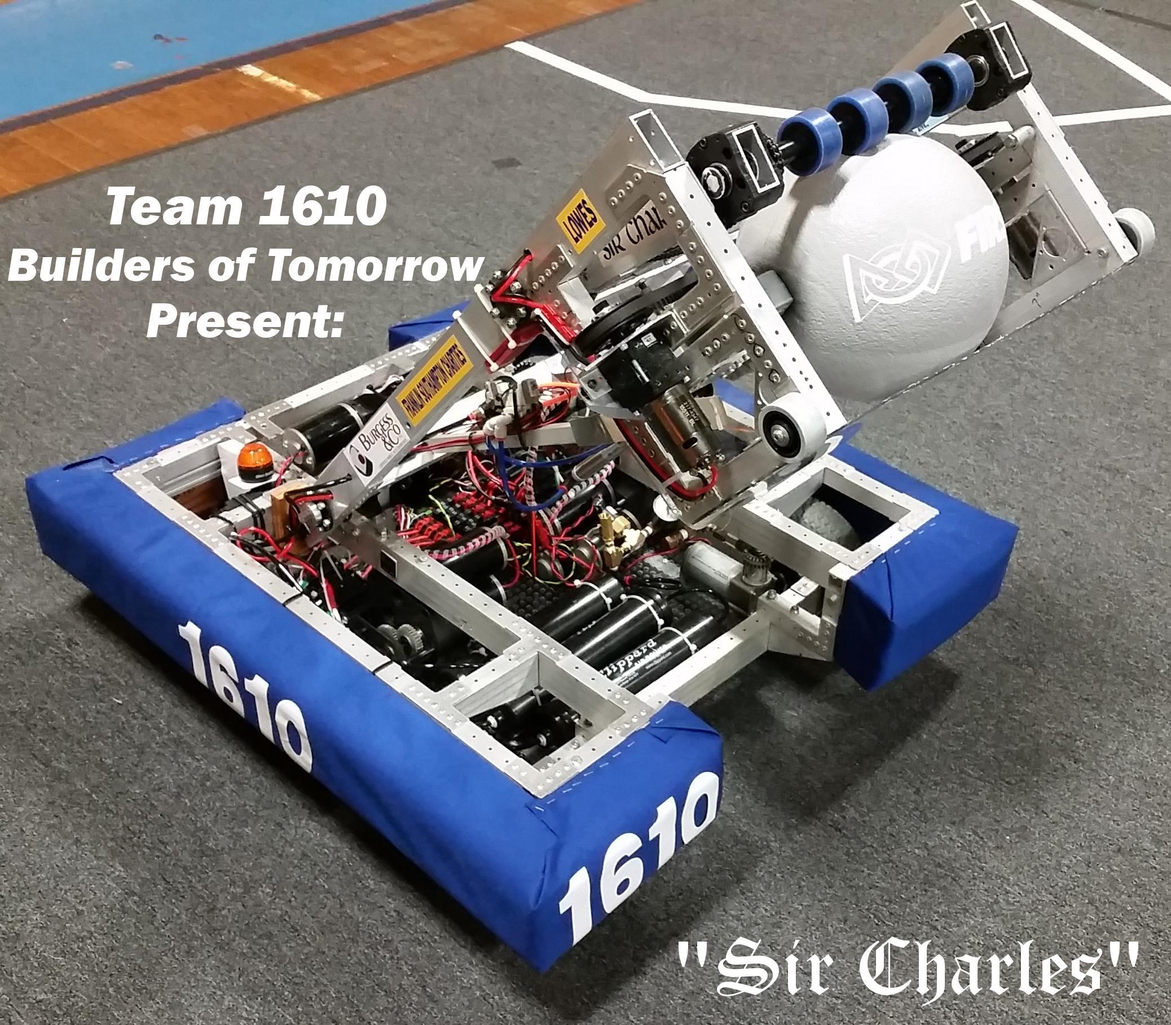robot: (14, 0, 1162, 995)
